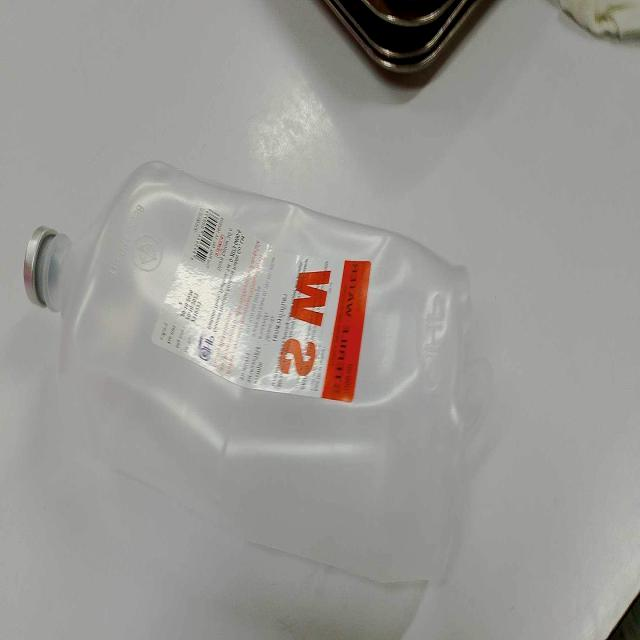General: (8, 1, 638, 637), (148, 204, 374, 404)
Infectious: (25, 158, 479, 596)
